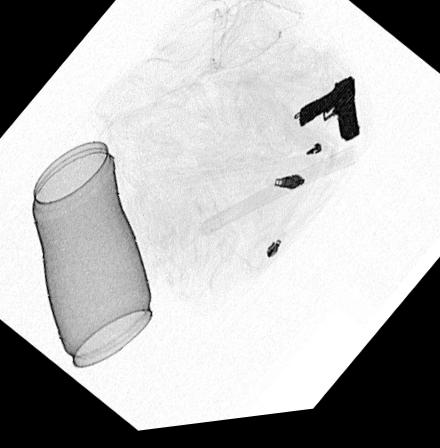Gun: (298, 85, 360, 151)
